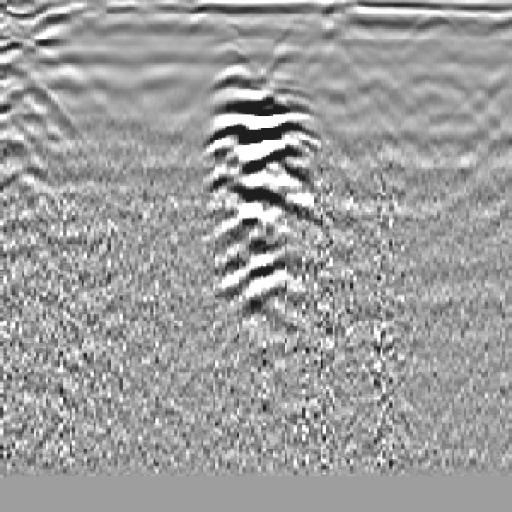metalic: (200, 48, 326, 331)
